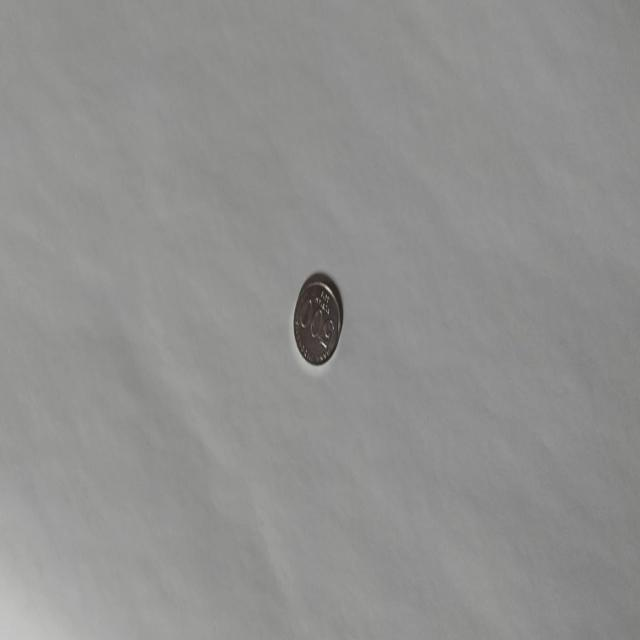lima ratus rupiah: (292, 272, 342, 367)
